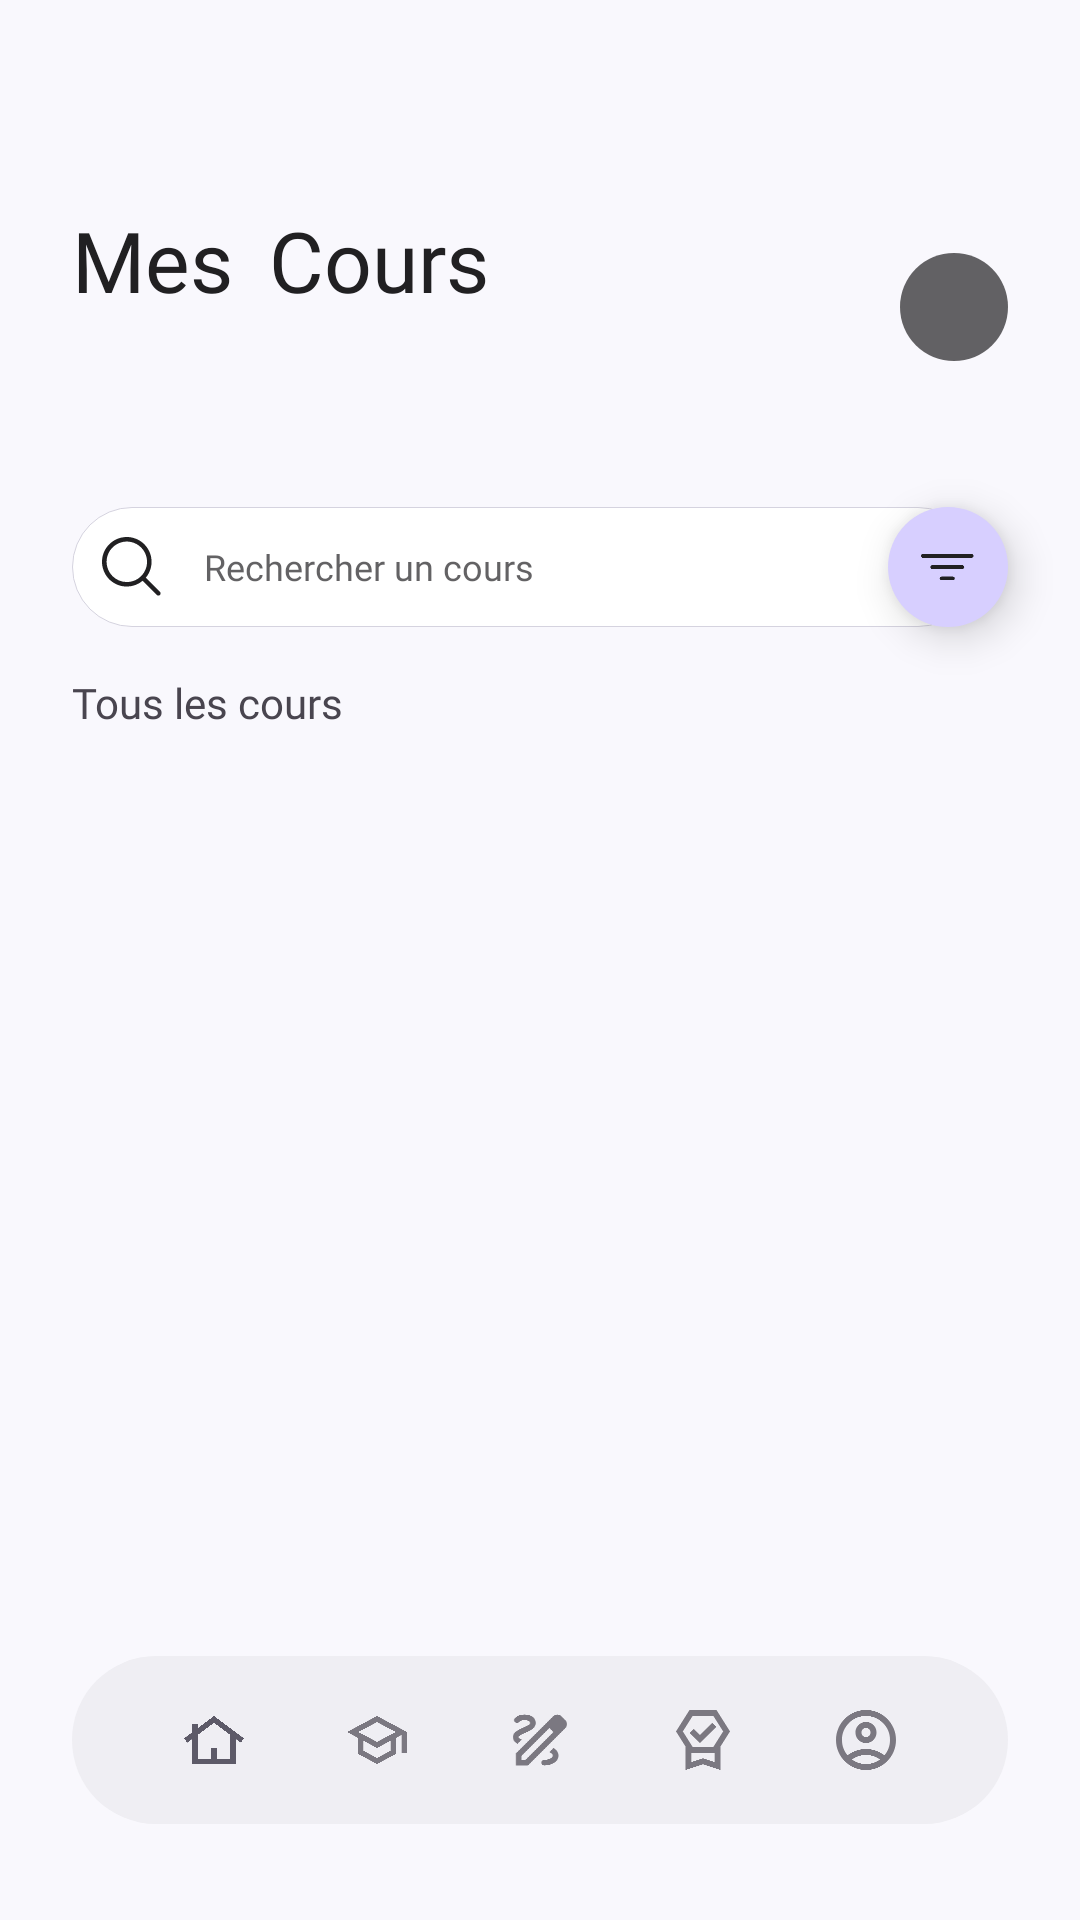

Screen size 1080x1920. Icon name, then its center in pixels as point (x, y):
filtres: point (948, 567)
